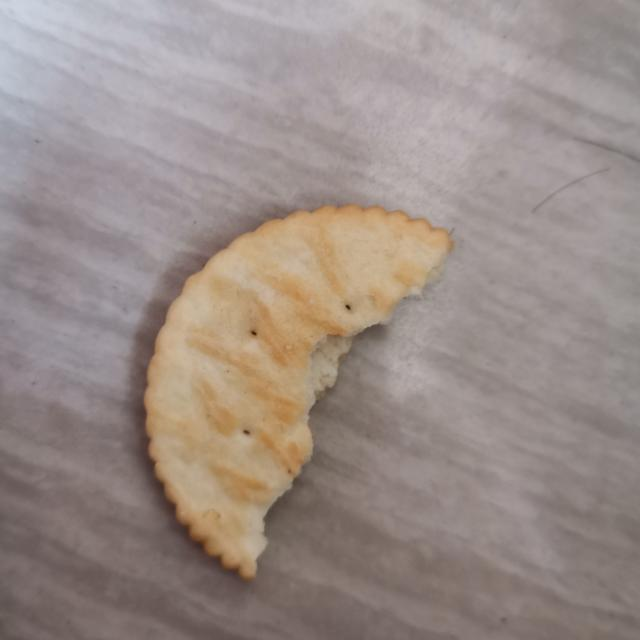Broken: (142, 201, 454, 580)
